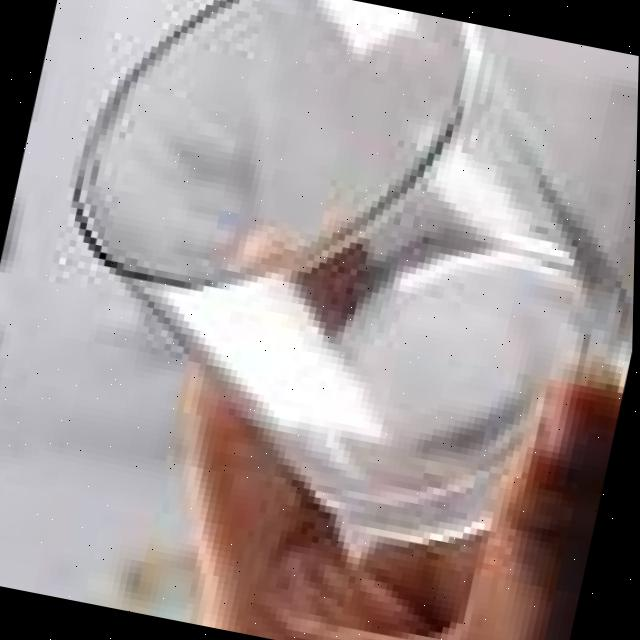Dry: (6, 0, 640, 581)
